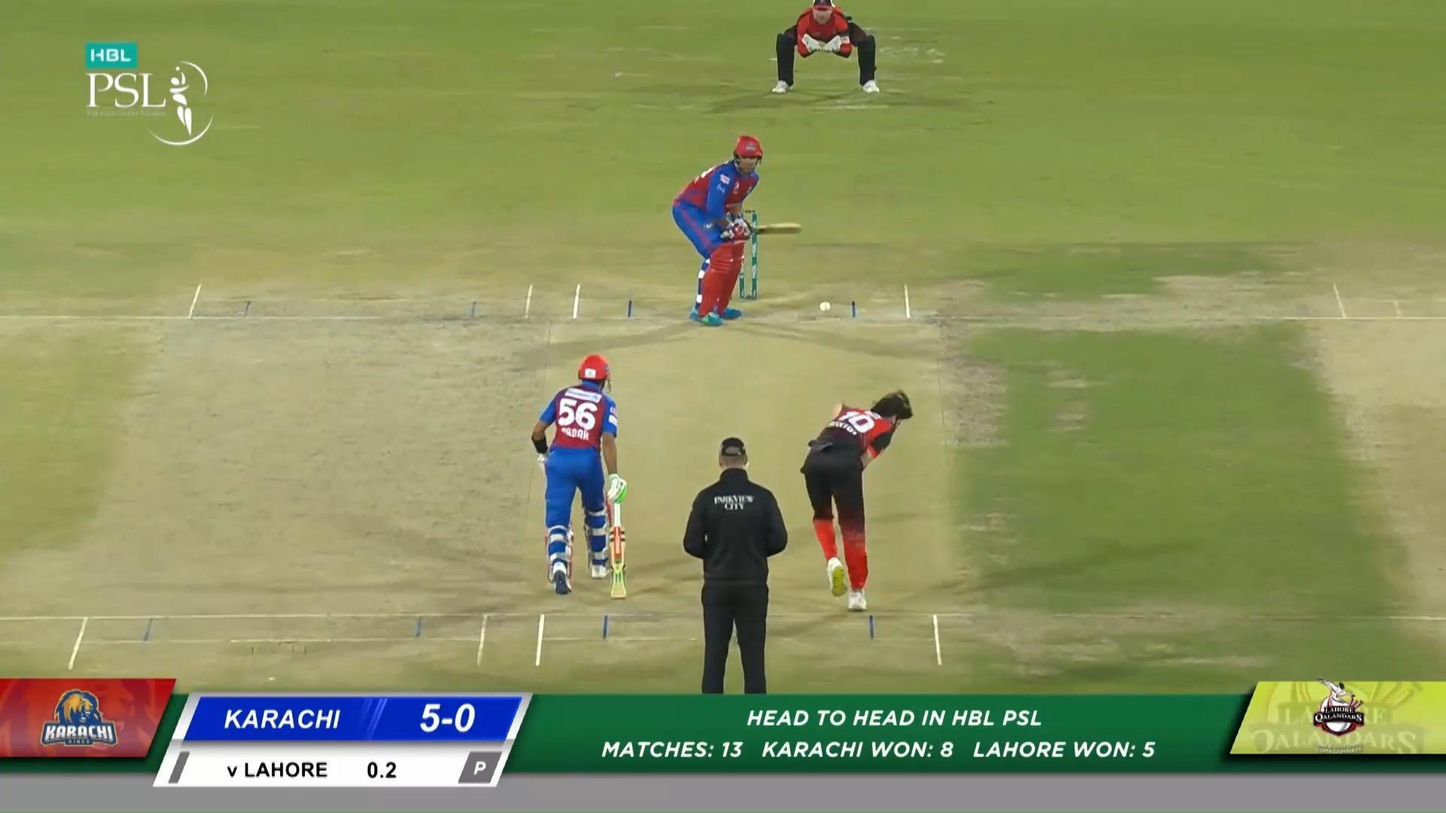BM 1: (671, 134, 802, 327)
BO: (799, 388, 915, 611)
